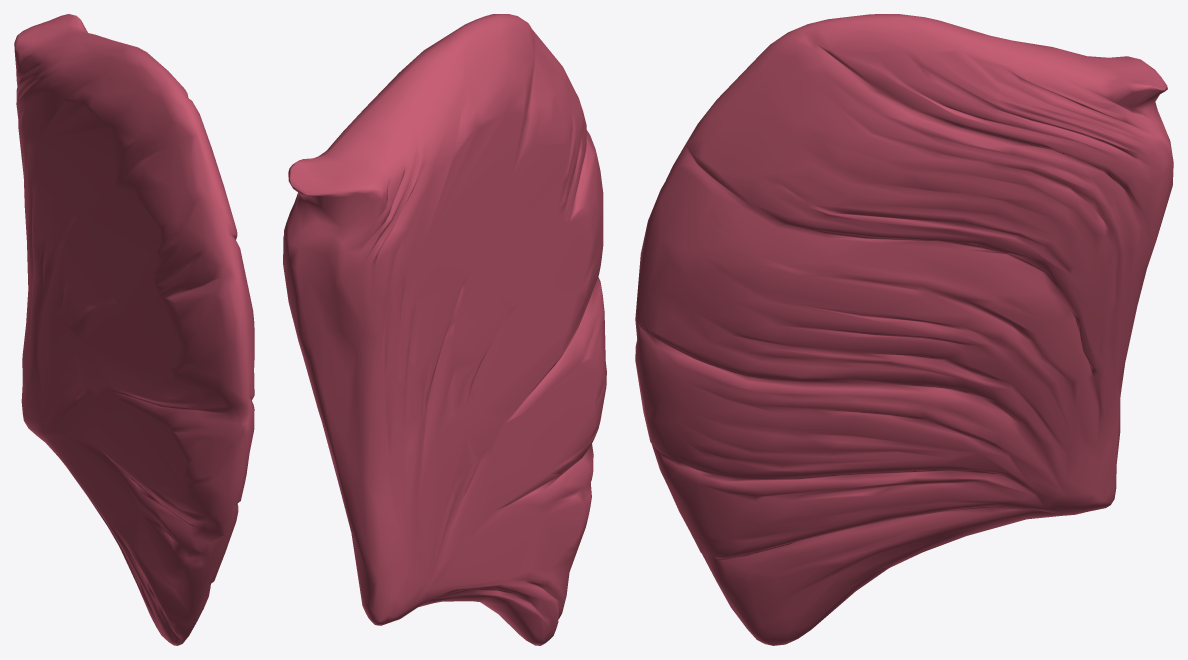
The picture shows the model from 3 angles, left to right: view 1: azimuth 30°, elevation 25°; view 2: azimuth 150°, elevation 25°; view 3: azimuth 270°, elevation 25°; orthographic projection. The views are drawn at different scales.
Parts seen in each view (by area): view 1: 左侧颏舌肌; view 2: 左侧颏舌肌; view 3: 左侧颏舌肌.
Boxes of the visible parts, x1=… form: 左侧颏舌肌: x1=14, y1=14, x2=254, y2=645; 左侧颏舌肌: x1=283, y1=14, x2=606, y2=645; 左侧颏舌肌: x1=635, y1=14, x2=1173, y2=645.
Bounding box in the file's own units: 0.0112 × 0.0701 × 0.0533.
